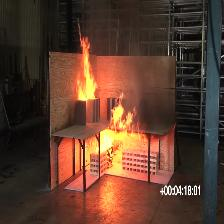fire: (101, 95, 148, 165), (78, 36, 98, 99)
